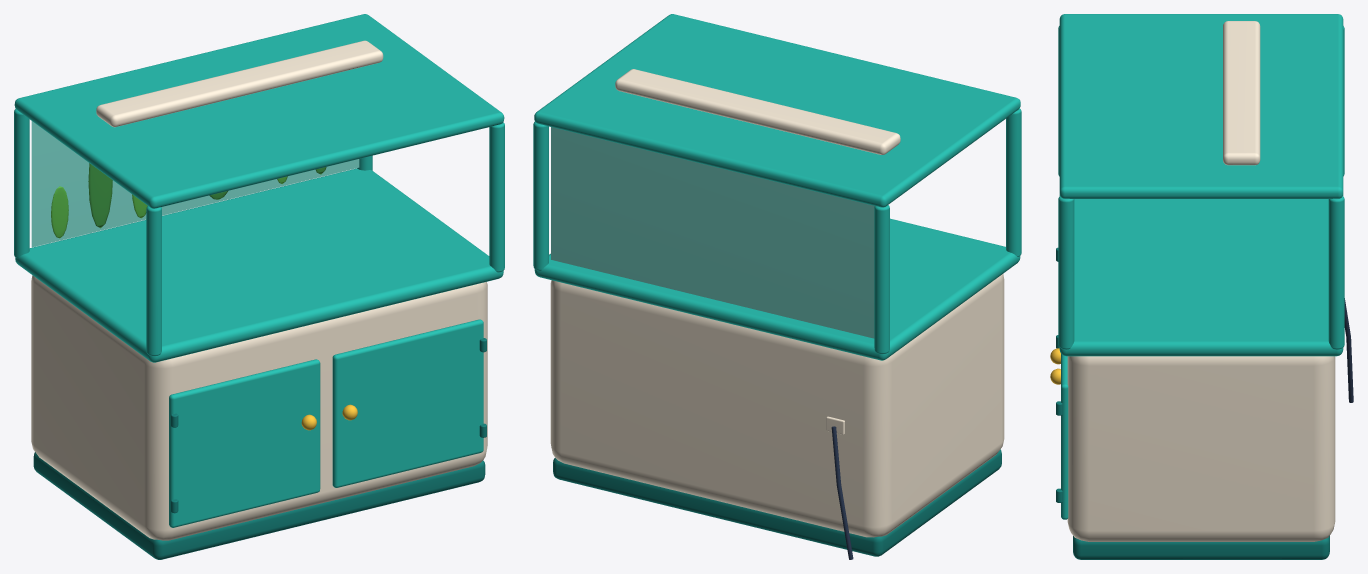
The model's file is TankStarter.fbx.
The picture shows the model from 3 angles, left to right: view 1: azimuth 30°, elevation 25°; view 2: azimuth 150°, elevation 25°; view 3: azimuth 270°, elevation 25°; orthographic projection. The views are drawn at different scales.
Parts seen in each view (by area): view 1: TankStarter mesh; view 2: TankStarter mesh; view 3: TankStarter mesh.
Part boxes in pixels (<box>): TankStarter mesh: <box>14,14,504,559</box>; TankStarter mesh: <box>533,14,1021,559</box>; TankStarter mesh: <box>1050,14,1353,559</box>.
Size of the model in its own units: 1.57 by 1.62 by 1.13.
